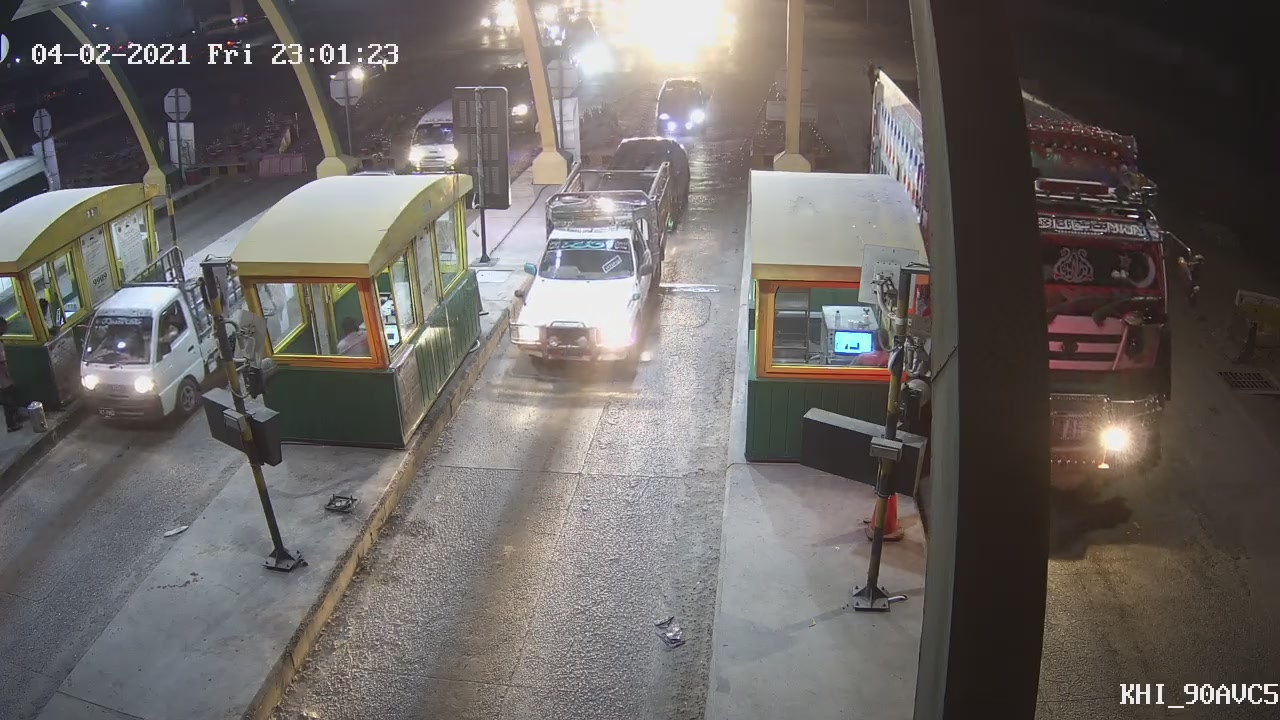F2: (499, 160, 674, 371)
